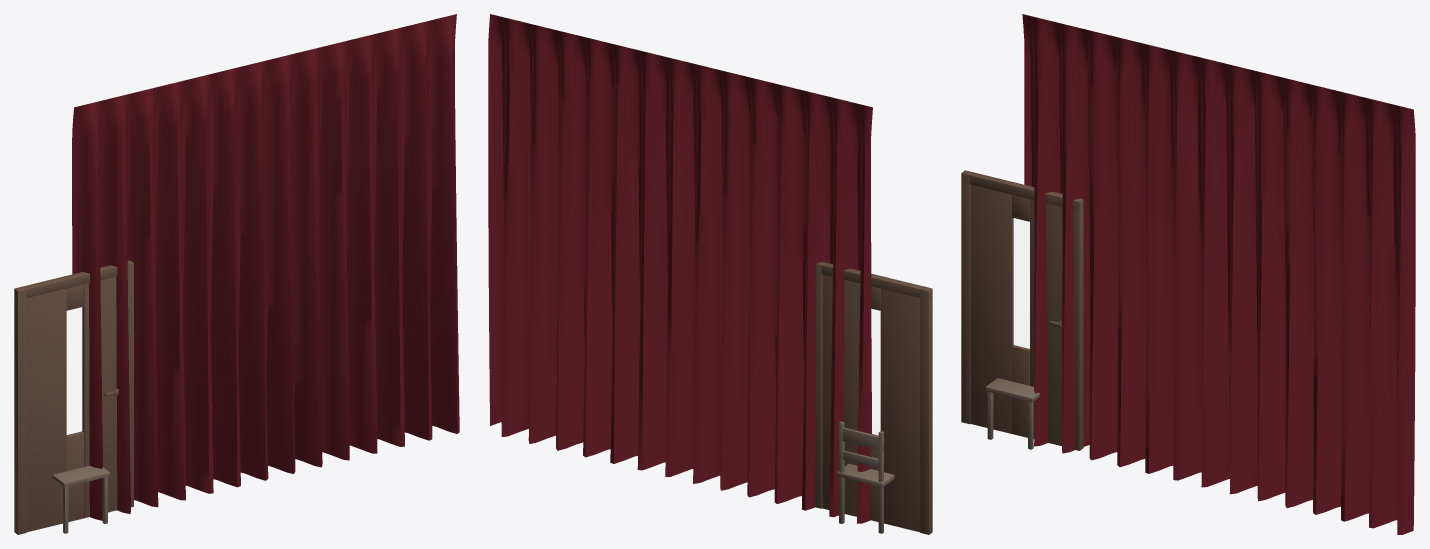
The model's file is props.glb.
3 renders of one model, left to right at view 1: azimuth 30°, elevation 25°; view 2: azimuth 150°, elevation 25°; view 3: azimuth 330°, elevation 25°, orthographic. The views are drawn at different scales.
Parts seen in each view (by area): view 1: curtain_half, door_leaf, door_frame, door_glass, chair; view 2: curtain_half, door_leaf, door_frame, chair, door_glass; view 3: curtain_half, door_leaf, door_frame, door_glass, chair.
Boxes of the visible parts, x1,y1,x2,y2 form: curtain_half: (72, 14, 459, 520); door_leaf: (26, 276, 118, 532); door_frame: (14, 260, 133, 534); door_glass: (66, 307, 82, 434); chair: (52, 465, 109, 533); curtain_half: (488, 14, 872, 523); door_leaf: (822, 274, 920, 532); door_frame: (815, 262, 932, 534); chair: (837, 421, 894, 533); door_glass: (871, 308, 880, 435); curtain_half: (1022, 14, 1415, 534); door_leaf: (970, 184, 1062, 445); door_frame: (961, 170, 1083, 450); door_glass: (1013, 218, 1029, 348); chair: (985, 378, 1039, 449).
Bounding box in the file's own units: 4.03 × 3.6 × 0.4199.
